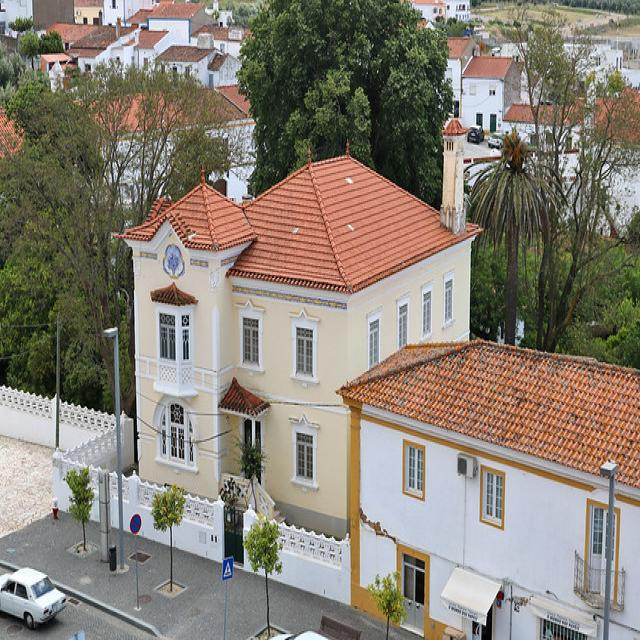building: (114, 144, 474, 613), (331, 333, 640, 634)
